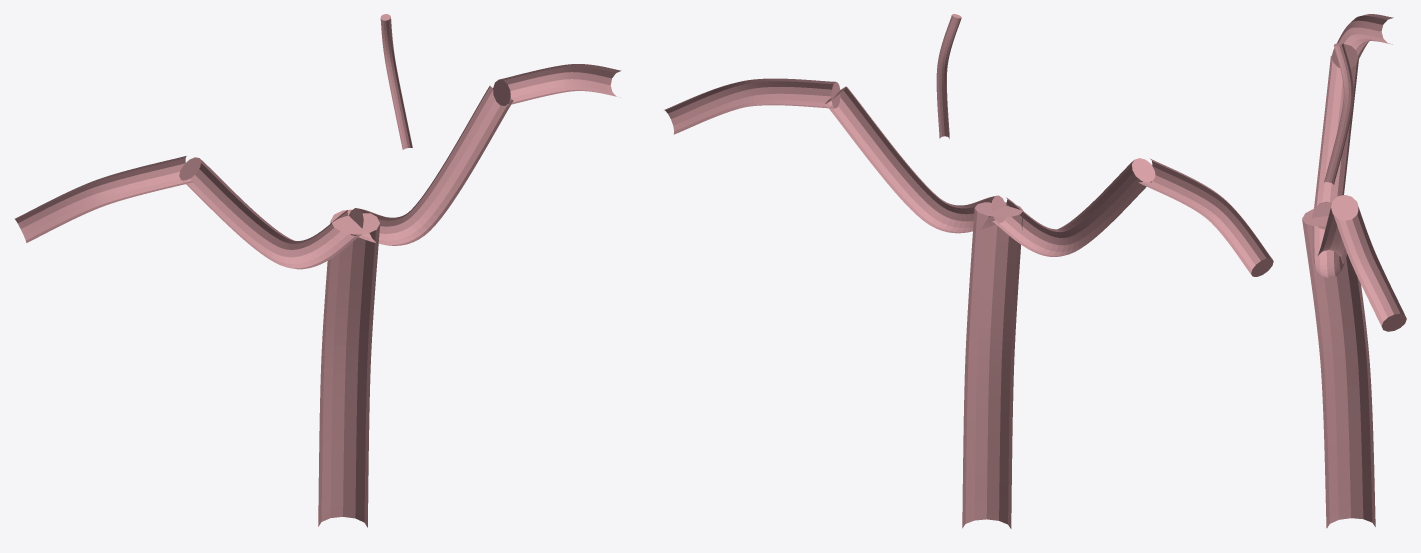
File: basilar_caudal.glb
3 views of the same model, side by side, from view 1: azimuth 30°, elevation 25°; view 2: azimuth 150°, elevation 25°; view 3: azimuth 270°, elevation 25° (orthographic).
Parts seen in each view (by area): view 1: Basilar distal, P1 D — fusão caudal simétrica, P1 E — fusão caudal simétrica, ACP P2 esquerda, ACP P2 direita, Talâmoperfurante contralateral; view 2: Basilar distal, P1 D — fusão caudal simétrica, P1 E — fusão caudal simétrica, ACP P2 direita, ACP P2 esquerda, Talâmoperfurante contralateral; view 3: Basilar distal, ACP P2 direita, P1 E — fusão caudal simétrica, P1 D — fusão caudal simétrica, Talâmoperfurante contralateral, ACP P2 esquerda.
Boxes of the visible parts, x1,y1,x2,y2 form: Basilar distal: (318, 209, 379, 527); P1 D — fusão caudal simétrica: (349, 86, 513, 245); P1 E — fusão caudal simétrica: (179, 157, 361, 269); ACP P2 esquerda: (15, 156, 193, 242); ACP P2 direita: (493, 64, 621, 105); Talâmoperfurante contralateral: (380, 14, 412, 149); Basilar distal: (962, 202, 1023, 528); P1 D — fusão caudal simétrica: (825, 86, 1005, 233); P1 E — fusão caudal simétrica: (992, 158, 1155, 256); ACP P2 direita: (664, 78, 840, 134); ACP P2 esquerda: (1138, 158, 1273, 276); Talâmoperfurante contralateral: (936, 14, 961, 138); Basilar distal: (1302, 208, 1375, 528); ACP P2 direita: (1333, 206, 1406, 331); P1 E — fusão caudal simétrica: (1312, 56, 1358, 229); P1 D — fusão caudal simétrica: (1312, 195, 1358, 277); Talâmoperfurante contralateral: (1324, 42, 1353, 184); ACP P2 esquerda: (1331, 14, 1393, 68).
Bounding box in the file's own units: 5.72 × 4.52 × 0.8514.
